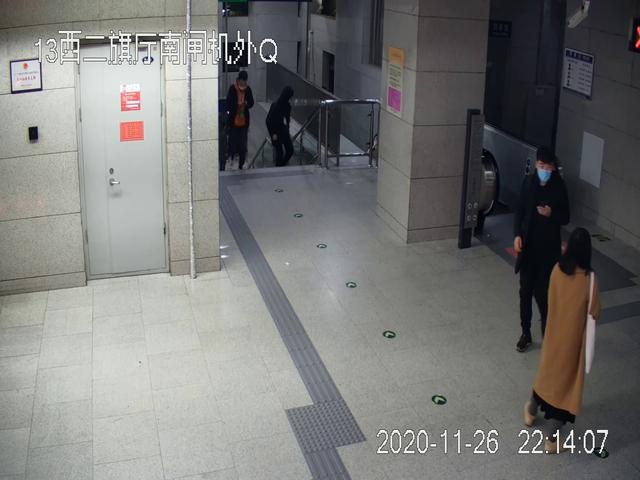person: (526, 228, 598, 455), (515, 144, 573, 354), (223, 70, 255, 171)
